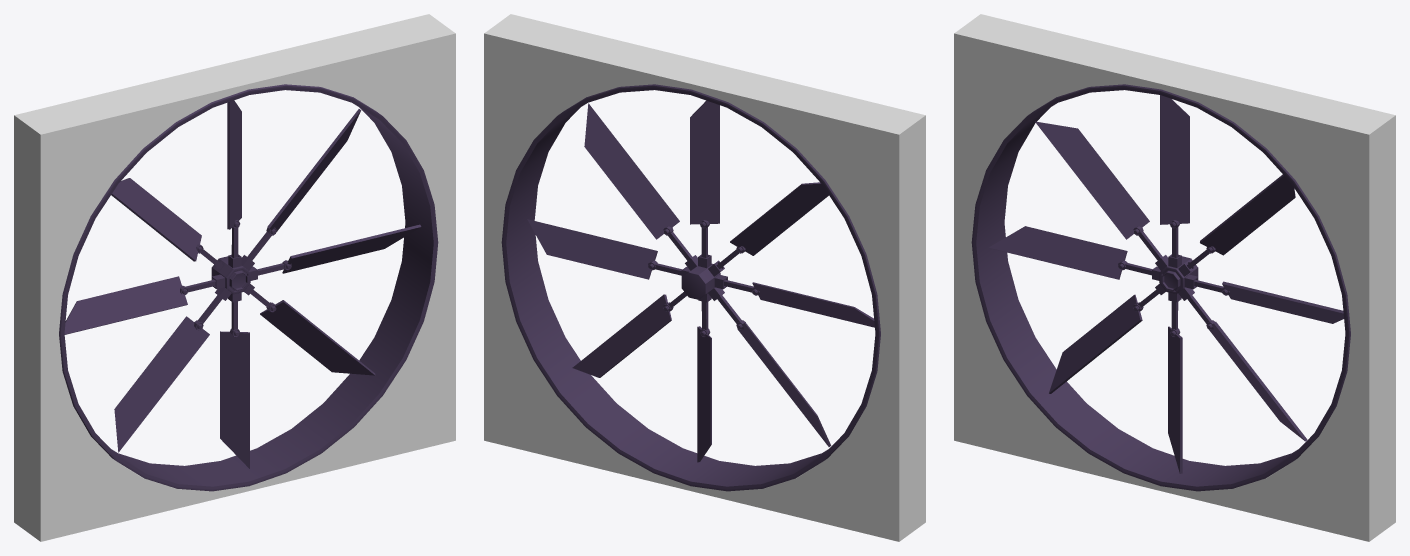
File: Industrial_Fan (4).fbx
3 renders of one model, left to right at view 1: azimuth 30°, elevation 25°; view 2: azimuth 150°, elevation 25°; view 3: azimuth 330°, elevation 25°, orthographic.
Visible parts, largest first — view 1: FanFrame, Fan, FanCover, FanRotor, FanUnion; view 2: FanFrame, Fan, FanCover, FanRotor, FanUnion; view 3: FanFrame, Fan, FanCover, FanRotor.
Boxes of the visible parts, x1,y1,x2,y2 form: FanFrame: [14, 14, 455, 541]; Fan: [64, 100, 421, 468]; FanCover: [59, 84, 438, 491]; FanRotor: [185, 227, 284, 330]; FanUnion: [180, 220, 291, 337]; FanFrame: [484, 14, 925, 541]; Fan: [527, 100, 874, 462]; FanCover: [501, 84, 880, 491]; FanRotor: [655, 227, 753, 330]; FanUnion: [648, 220, 759, 337]; FanFrame: [954, 14, 1395, 541]; Fan: [989, 95, 1343, 473]; FanCover: [971, 84, 1350, 491]; FanRotor: [1125, 227, 1223, 329].
Size of the model in its own units: 3200 by 3000 by 384.
